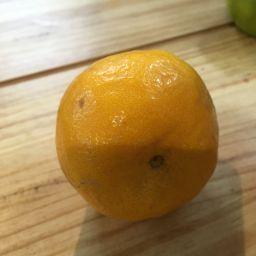Ripe: (55, 53, 220, 221)
